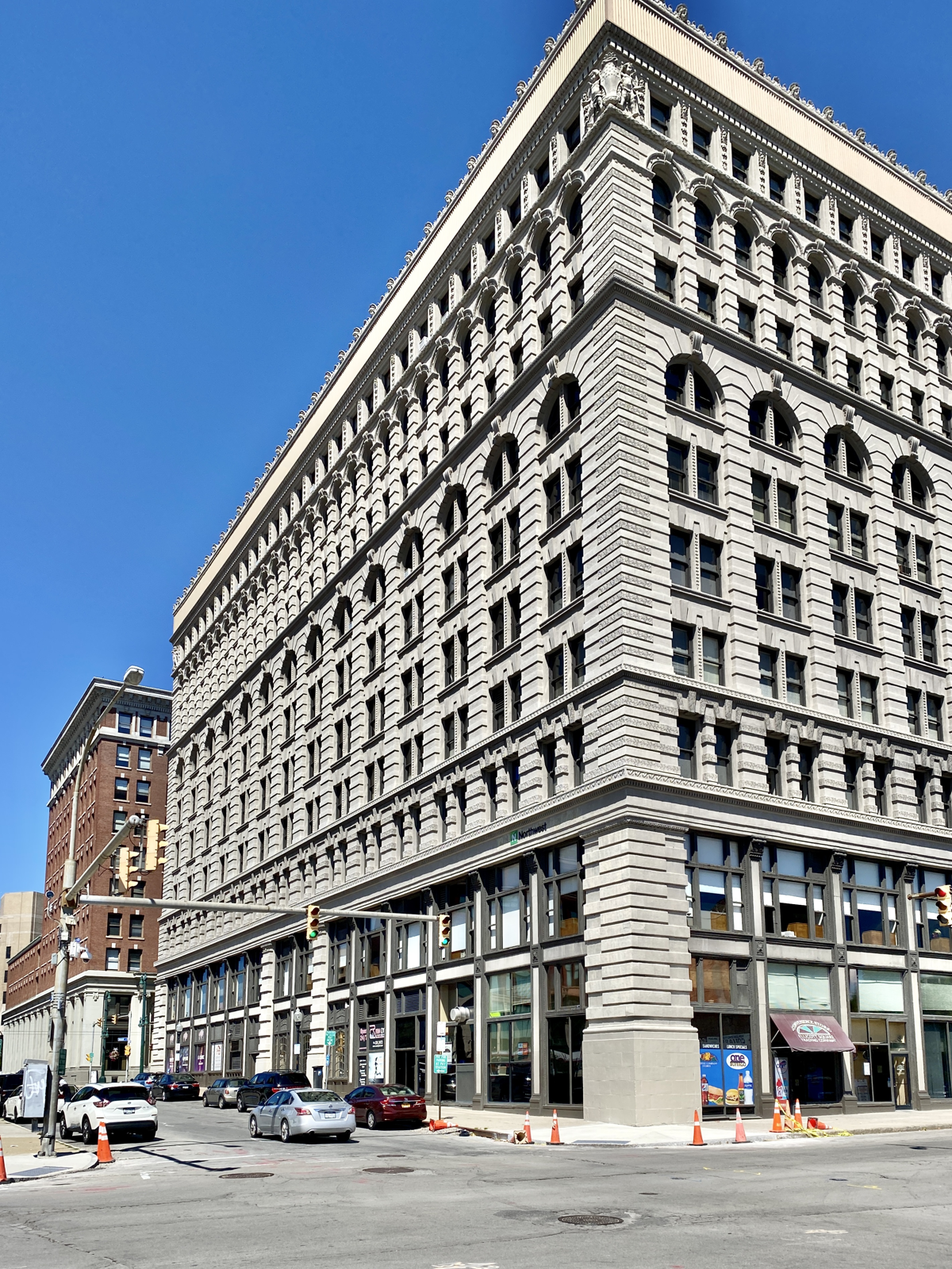fachada: (171, 0, 952, 1134), (4, 674, 178, 1142)
